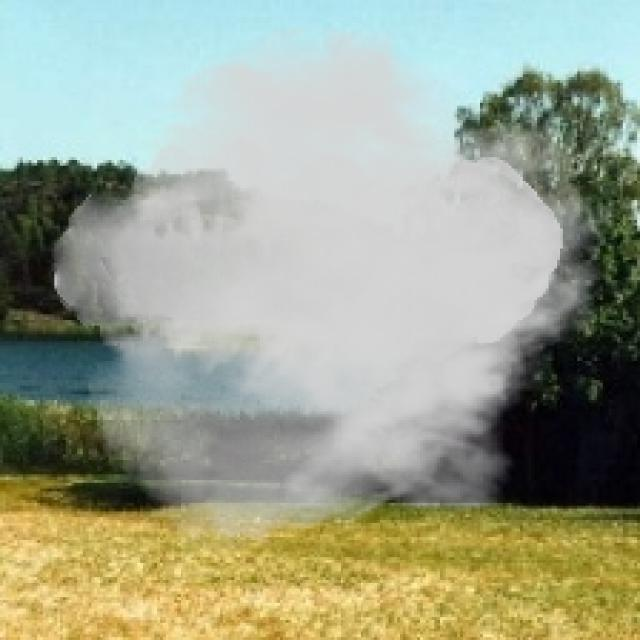smoke: (51, 20, 620, 554)
